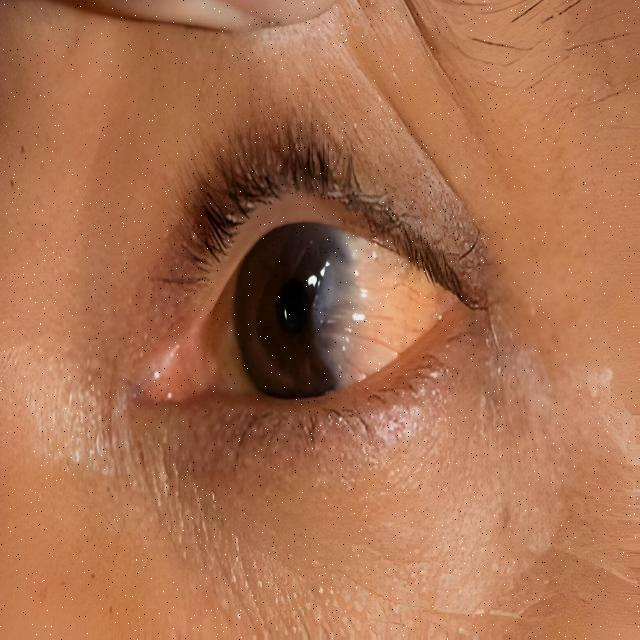Pterygium: (316, 235, 450, 381), (150, 293, 261, 389)
